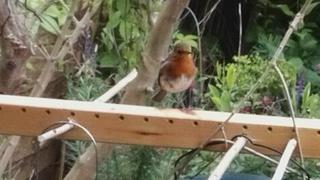robin: (149, 42, 197, 112)
